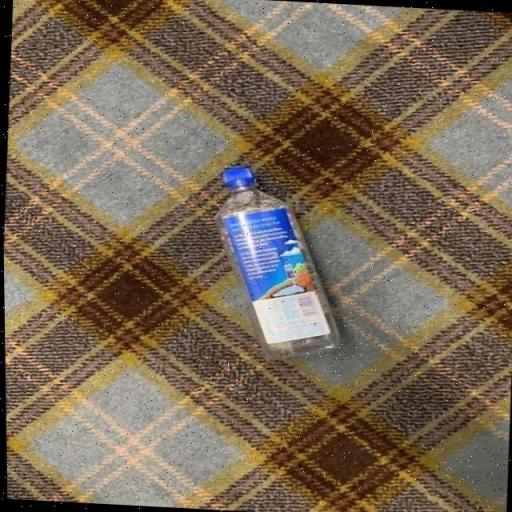plastic: (215, 167, 339, 356)
